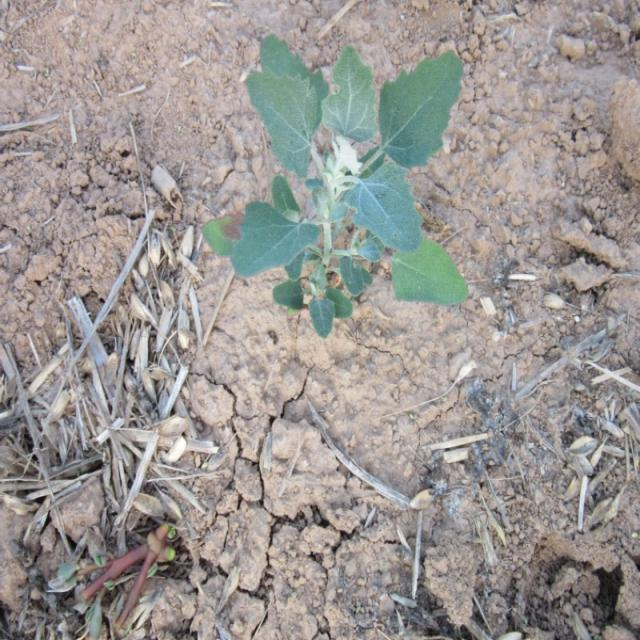ca: (201, 25, 476, 338)
